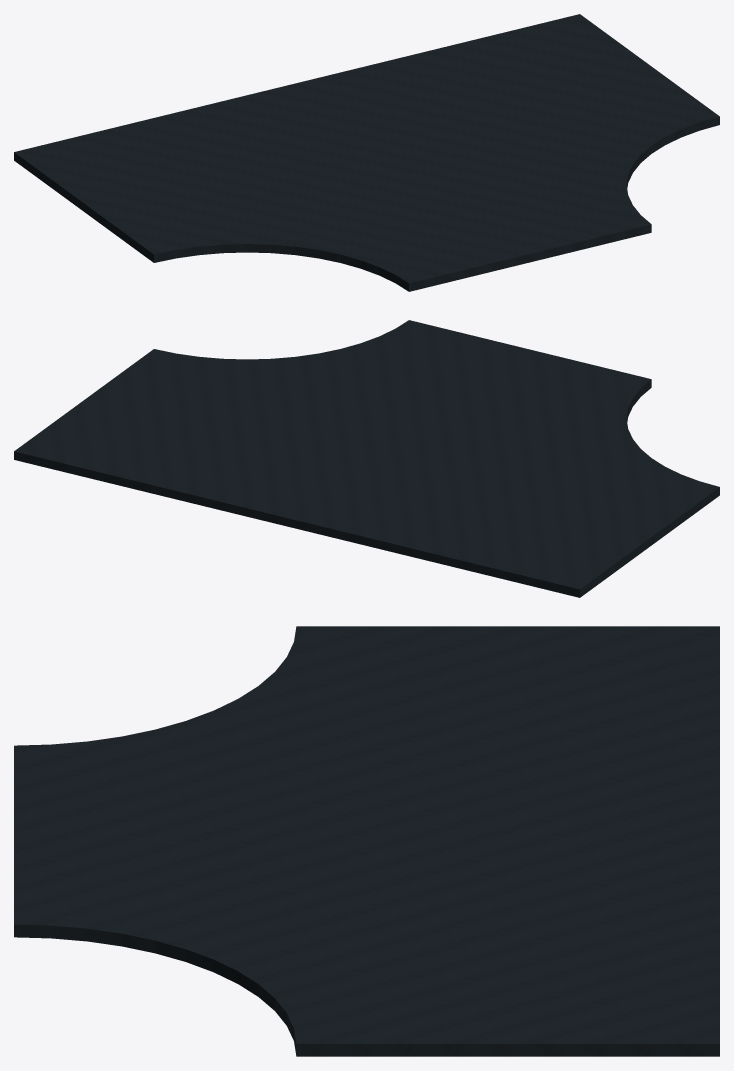
File: Transit_Road_2L_TJunction_R4_Surface.glb
3 views of the same model, one above another, from view 1: azimuth 30°, elevation 25°; view 2: azimuth 150°, elevation 25°; view 3: azimuth 270°, elevation 25° (orthographic). The views are drawn at different scales.
Parts seen in each view (by area): view 1: Transit_Road_2L_TJunction_R4_Surface; view 2: Transit_Road_2L_TJunction_R4_Surface; view 3: Transit_Road_2L_TJunction_R4_Surface.
Part boxes in pixels (x1,y1,x2,y2): Transit_Road_2L_TJunction_R4_Surface: (14,14,719,291); Transit_Road_2L_TJunction_R4_Surface: (14,320,719,597); Transit_Road_2L_TJunction_R4_Surface: (14,626,719,1056).
Bounding box in the file's own units: 14 × 0.2 × 10.
Materials: 1 (1 with a texture image).
